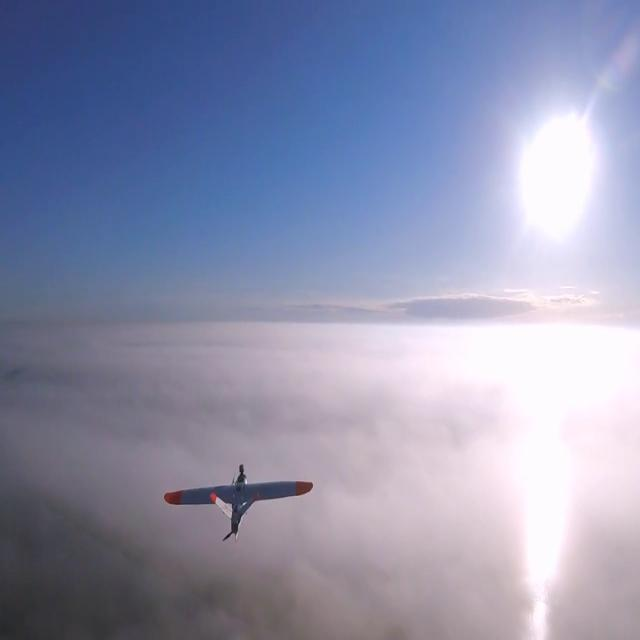iha: (162, 494, 315, 515)
